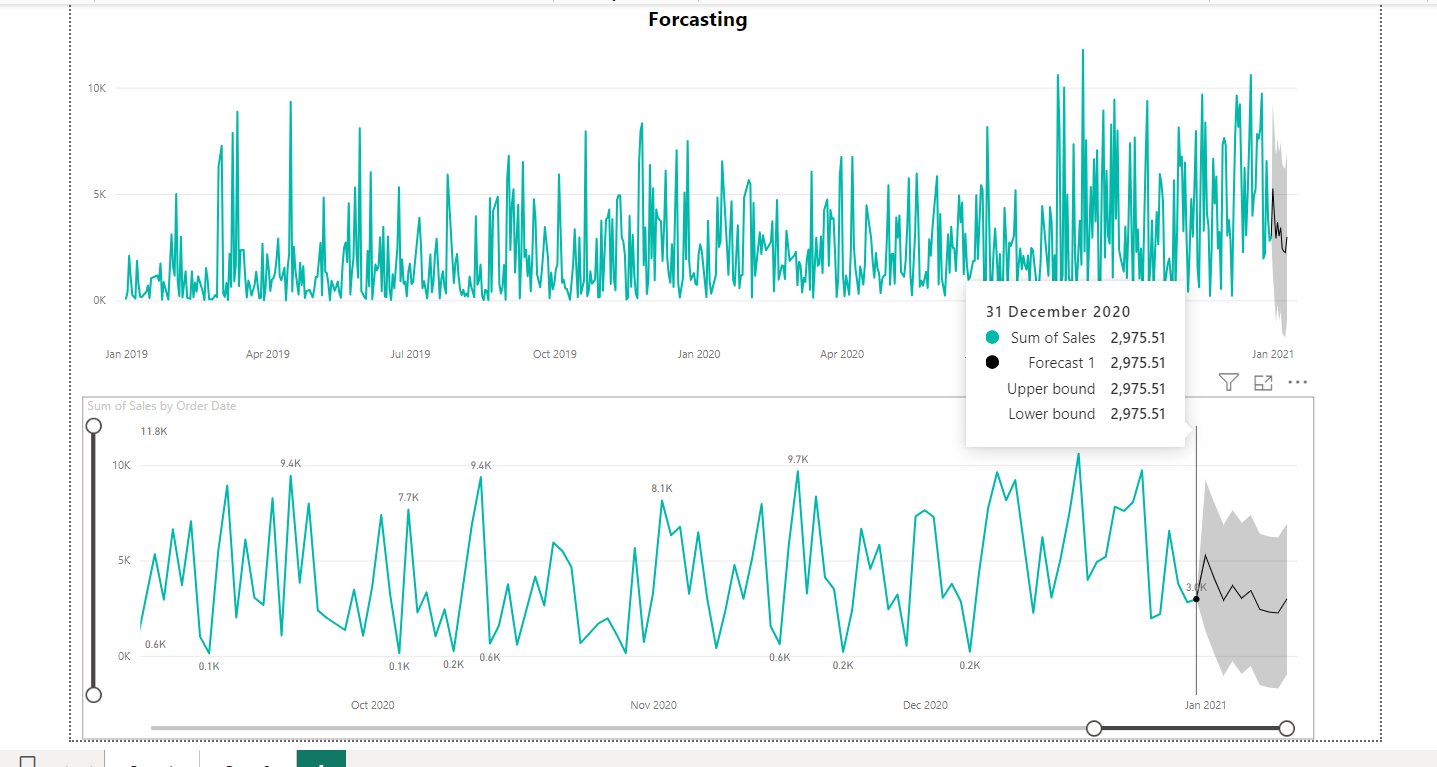

Layout of this report page (visuals, bound fields, positions):
{"tool":"powerbi","page":{"name":"Page 2","canvas":[1280,720],"ordinal":1},"visuals":[{"type":"lineChart","fields":{"Y":["Sum(Sheet1.Sales)"],"Category":["Sheet1.Order Date"]},"box":[10.7,0,1204.7,359.7],"z":0},{"type":"lineChart","fields":{"Y":["Sum(Sheet1.Sales)"],"Category":["Sheet1.Order Date"]},"box":[10.7,384.2,1204.7,335.2],"z":1000}]}

Visuals, with their boxes on the page's 1280x720 design canvas (x1, y1, x2, y2). These are canvas units, not pixel positions in the 1437x767 screenshot, which may show the page scaled, cropped or inside an application window:
lineChart - Sum(Sheet1.Sales) x Sheet1.Order Date: bbox=[11, 0, 1215, 360]
lineChart - Sum(Sheet1.Sales) x Sheet1.Order Date: bbox=[11, 384, 1215, 719]
